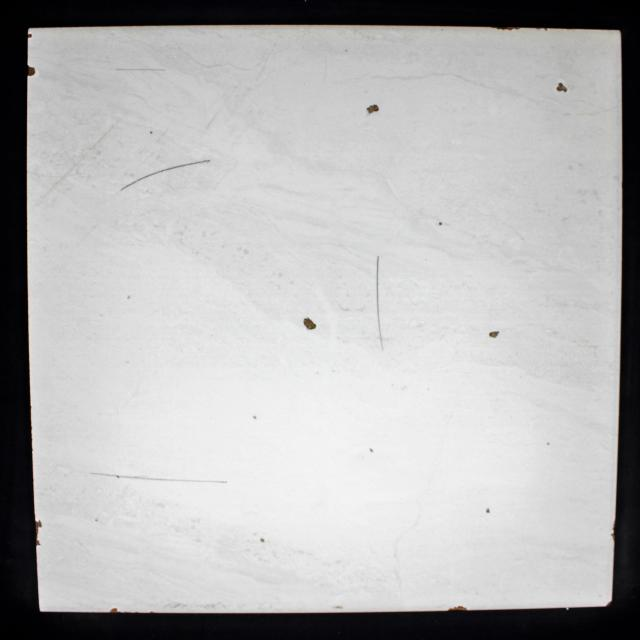edge-chipping: (36, 519, 42, 547), (488, 26, 520, 31), (27, 65, 36, 77), (448, 606, 467, 610), (109, 608, 118, 613), (611, 532, 615, 541), (27, 34, 33, 38)
hole: (303, 318, 317, 330), (556, 82, 568, 93), (366, 105, 379, 114), (488, 331, 500, 338), (486, 508, 490, 514), (260, 538, 265, 542), (369, 447, 373, 452), (439, 221, 443, 225), (253, 415, 257, 419)
line: (120, 159, 210, 191), (92, 472, 228, 484), (375, 256, 384, 350), (116, 68, 166, 71)
